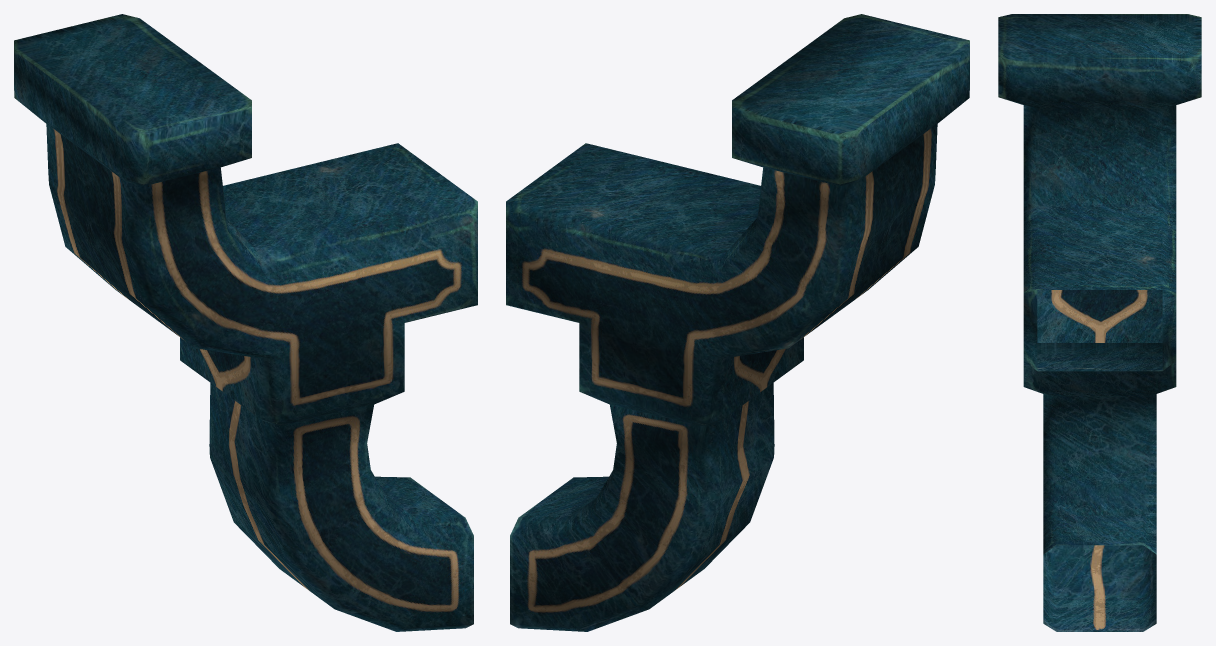
File: SM_Wall_Decor_A.glb
The picture shows the model from 3 angles, left to right: view 1: azimuth 30°, elevation 25°; view 2: azimuth 150°, elevation 25°; view 3: azimuth 270°, elevation 25°; orthographic projection. The views are drawn at different scales.
Visible parts, largest first — view 1: SM_Wall_Decor_A_LOD0; view 2: SM_Wall_Decor_A_LOD0; view 3: SM_Wall_Decor_A_LOD0.
Part boxes in pixels (<box>): SM_Wall_Decor_A_LOD0: <box>14,14,477,631</box>; SM_Wall_Decor_A_LOD0: <box>506,14,969,631</box>; SM_Wall_Decor_A_LOD0: <box>998,14,1201,631</box>.
Size of the model in its own units: 0.2835 by 0.4481 by 0.1732.
Materials: 1 (1 with a texture image).
